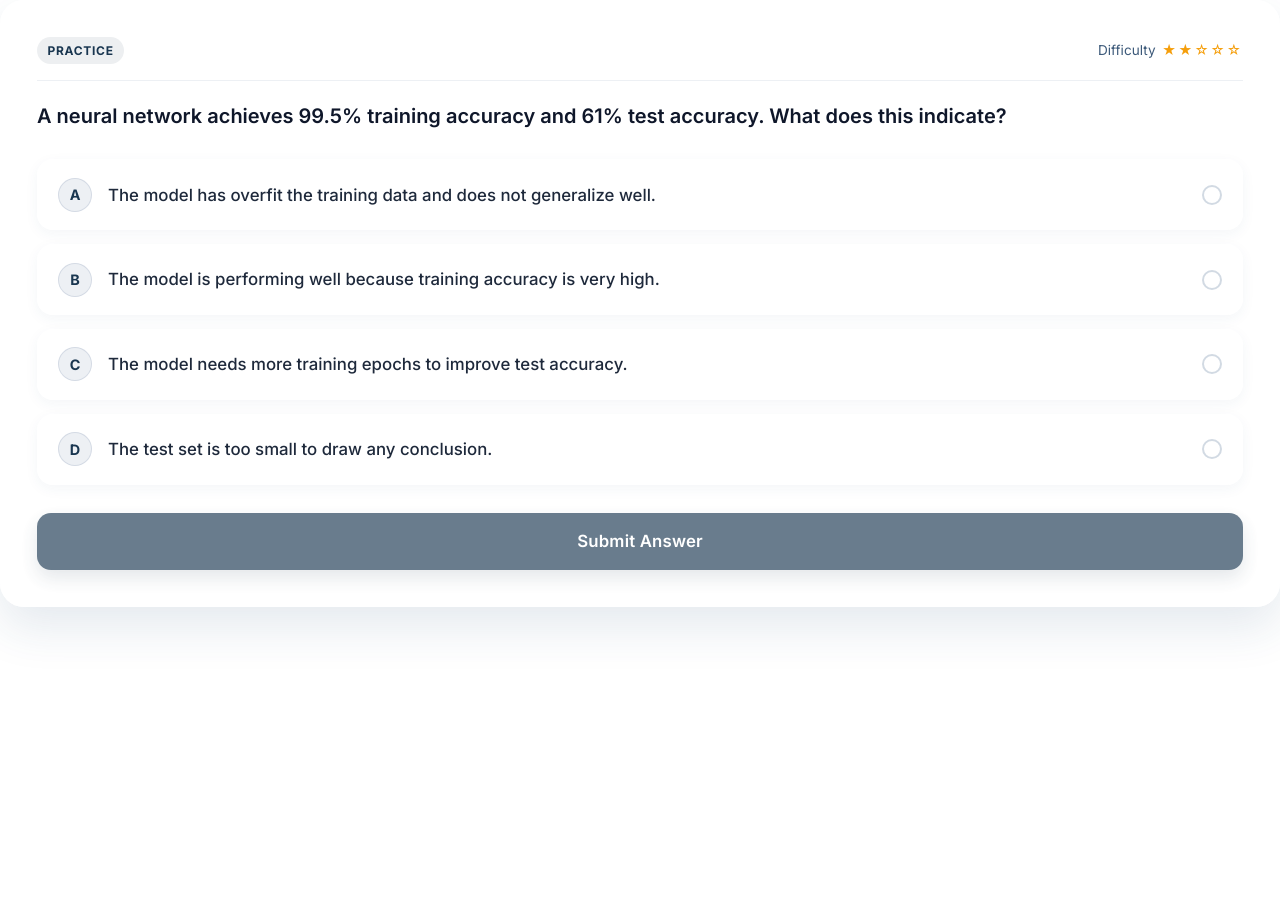
it: Module 5: Answer Submission Component Tests › displays API error banner when server rejects submission (e.g. 400 or 500)
The image size is (1280, 900).
Click the radio button with aria-label "Option A: The model has overfit the training data and does n".
click(640, 195)  # box [37, 159, 1243, 230]
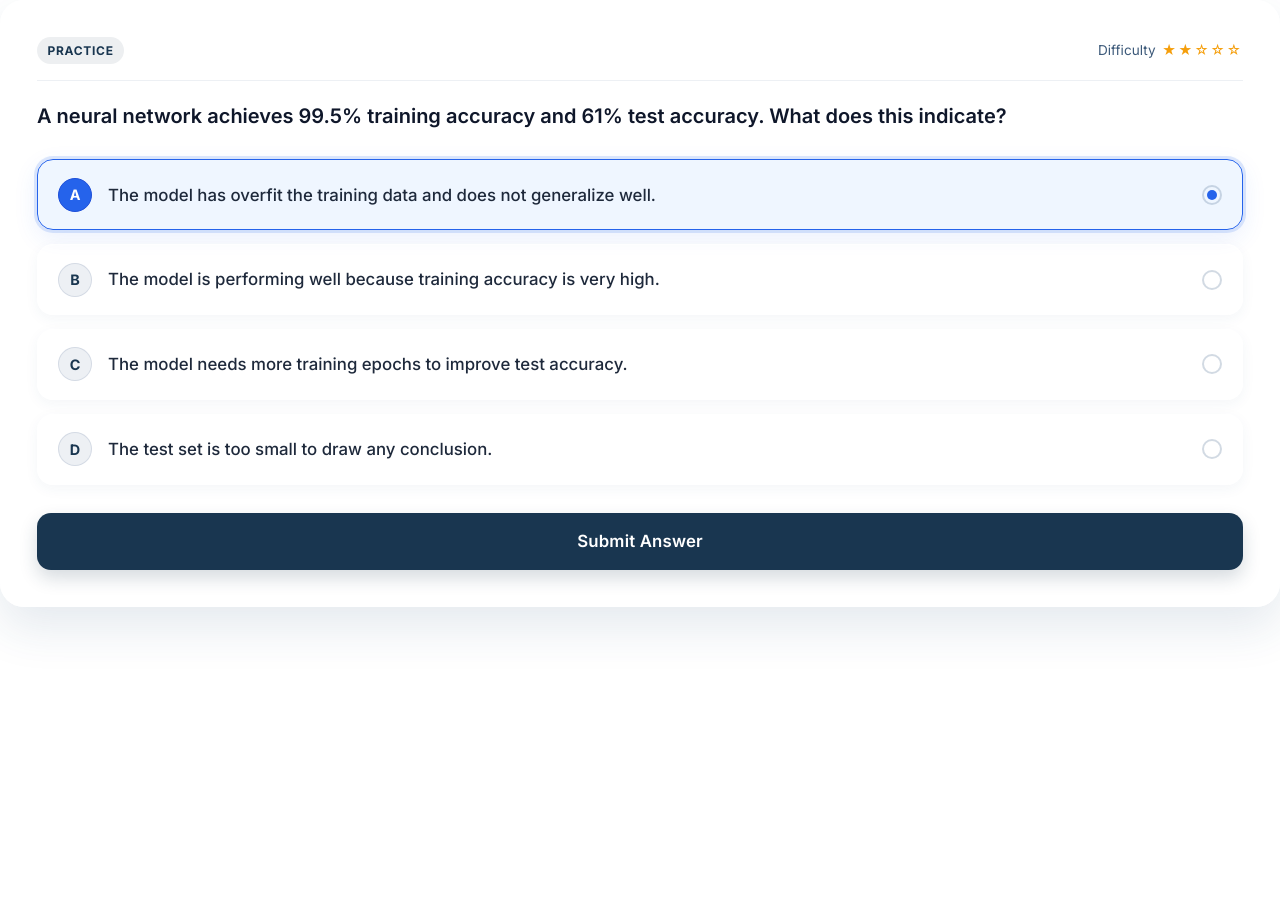
Click the button "Submit Answer".
click(640, 541)  # box [37, 513, 1243, 570]
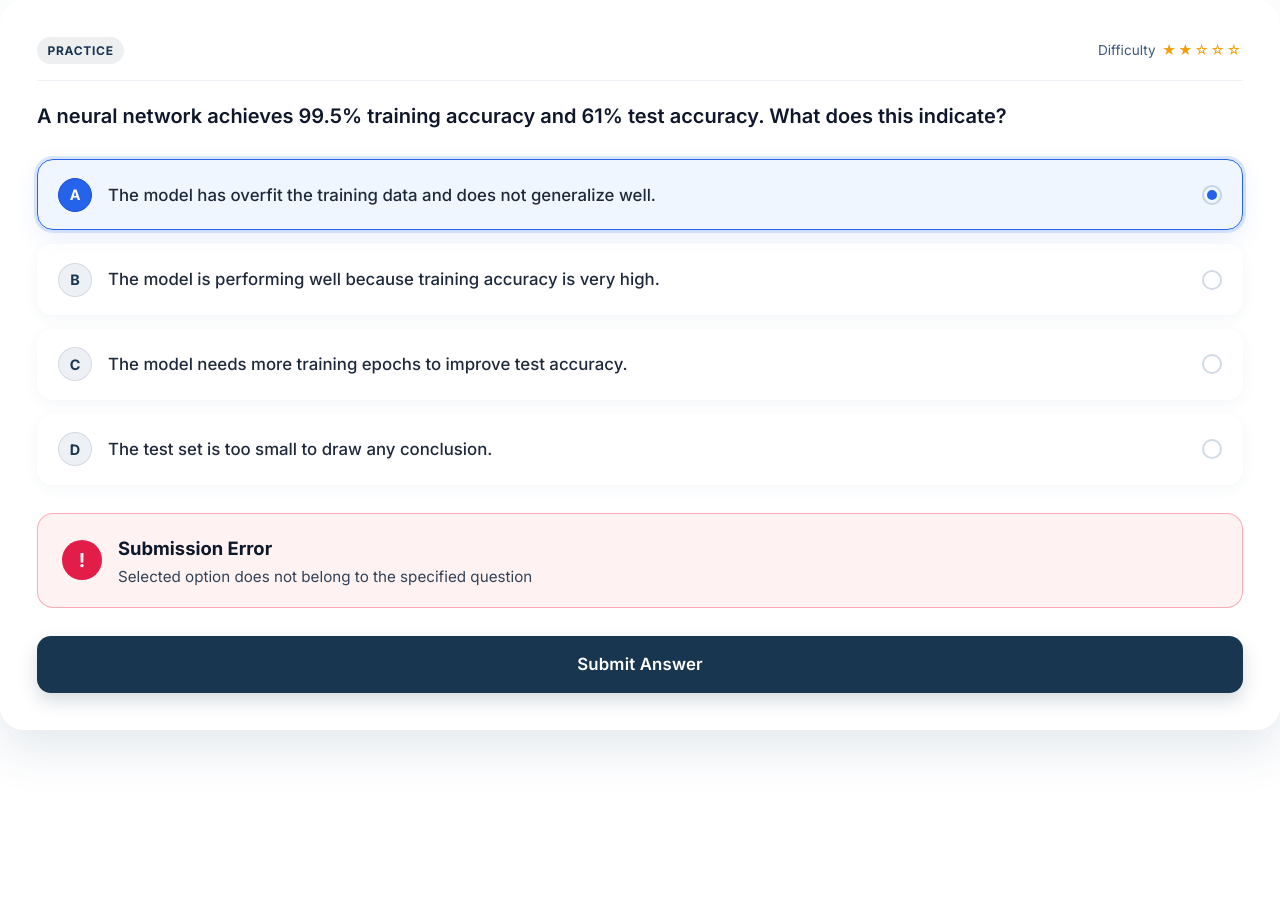
Result: the message "! Submission Error Selected option does not belong to the specified question" is shown at [37, 513, 1243, 608]
Result: the text "Selected option does not belong to the specified question" is shown at [118, 566, 532, 587]
